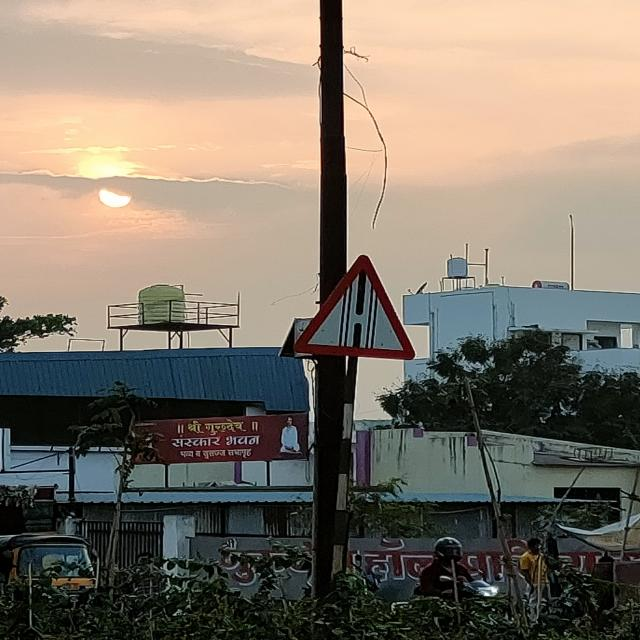ferry: (290, 256, 414, 360)
